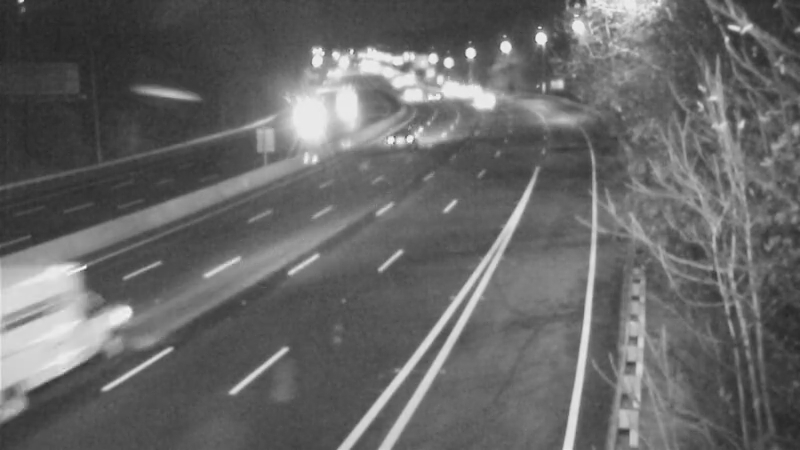vehicle: (1, 283, 106, 393), (390, 69, 440, 119), (404, 70, 454, 120), (456, 77, 506, 127), (381, 112, 431, 162), (274, 97, 324, 147), (320, 79, 370, 129)
